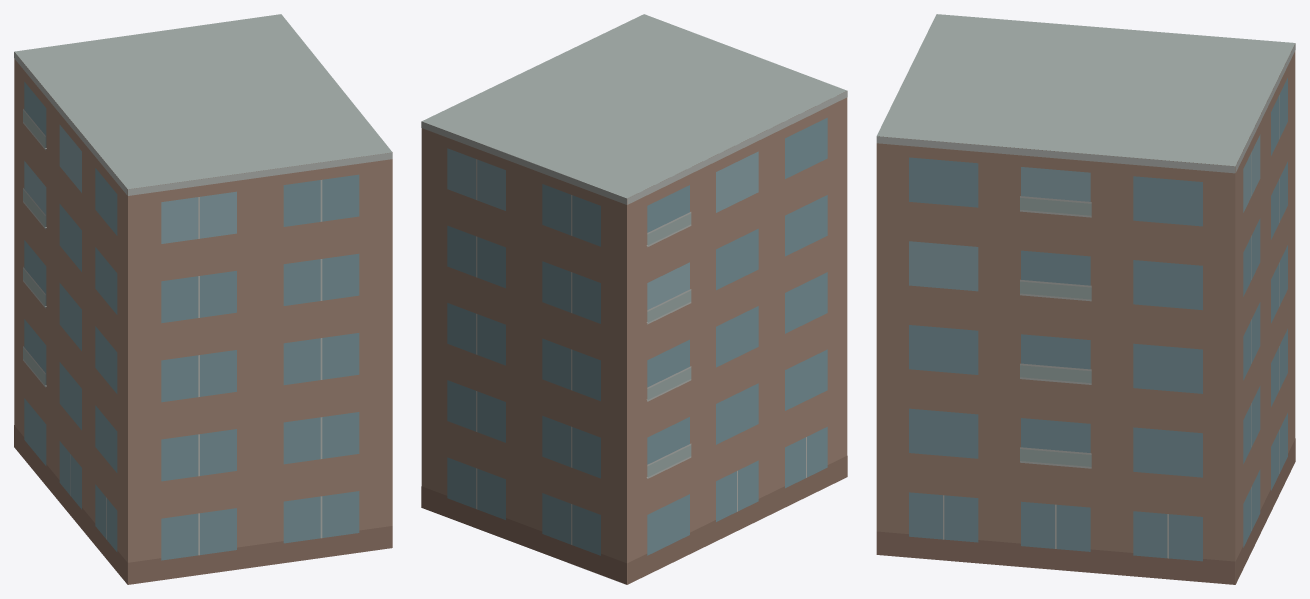
Rendered from survey-upis-32885326.glb.
The picture shows the model from 3 angles, left to right: view 1: azimuth 30°, elevation 25°; view 2: azimuth 150°, elevation 25°; view 3: azimuth 270°, elevation 25°; orthographic projection. The views are drawn at different scales.
Visible parts, largest first — view 1: survey-upis-32885326.tmp; view 2: survey-upis-32885326.tmp; view 3: survey-upis-32885326.tmp.
Boxes of the visible parts, x1,y1,x2,y2 form: survey-upis-32885326.tmp: (14, 14, 392, 584); survey-upis-32885326.tmp: (421, 14, 847, 584); survey-upis-32885326.tmp: (876, 14, 1295, 584).
Size of the model in its own units: 11.2 by 14.35 by 13.03.
